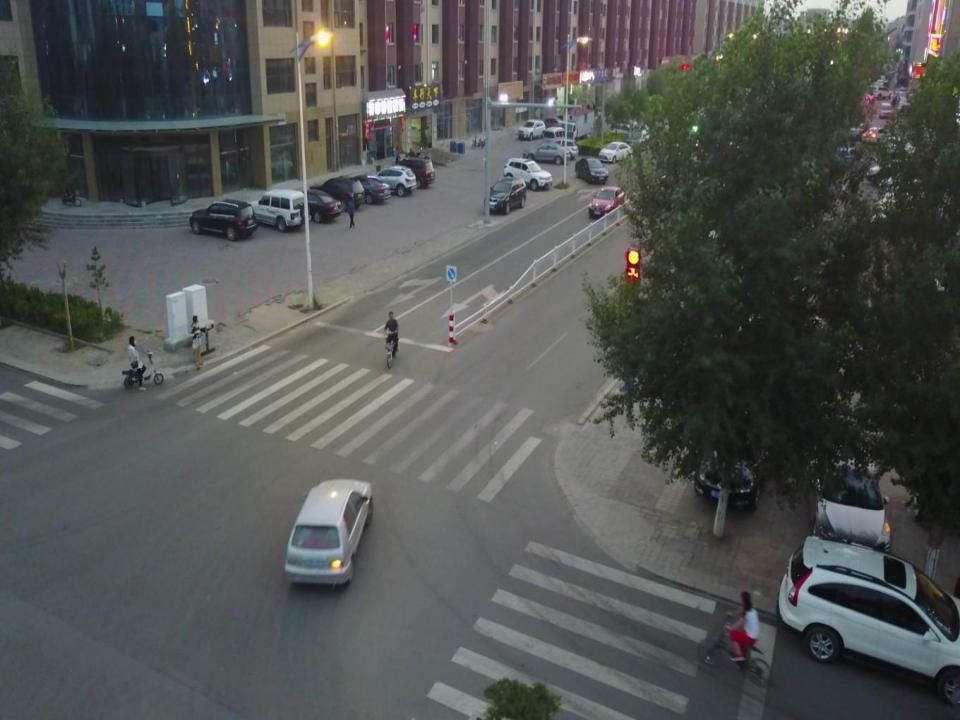car: (778, 533, 960, 706), (804, 412, 892, 554), (692, 386, 771, 512), (284, 478, 373, 587), (248, 190, 312, 232), (188, 199, 256, 238), (308, 176, 366, 212), (502, 157, 554, 191), (484, 176, 526, 213), (367, 166, 417, 196), (391, 157, 436, 188), (302, 189, 342, 223), (523, 140, 570, 166), (352, 174, 391, 203), (588, 187, 624, 218), (574, 157, 608, 184), (598, 141, 634, 163), (517, 119, 545, 140)
van: (544, 125, 566, 141)
